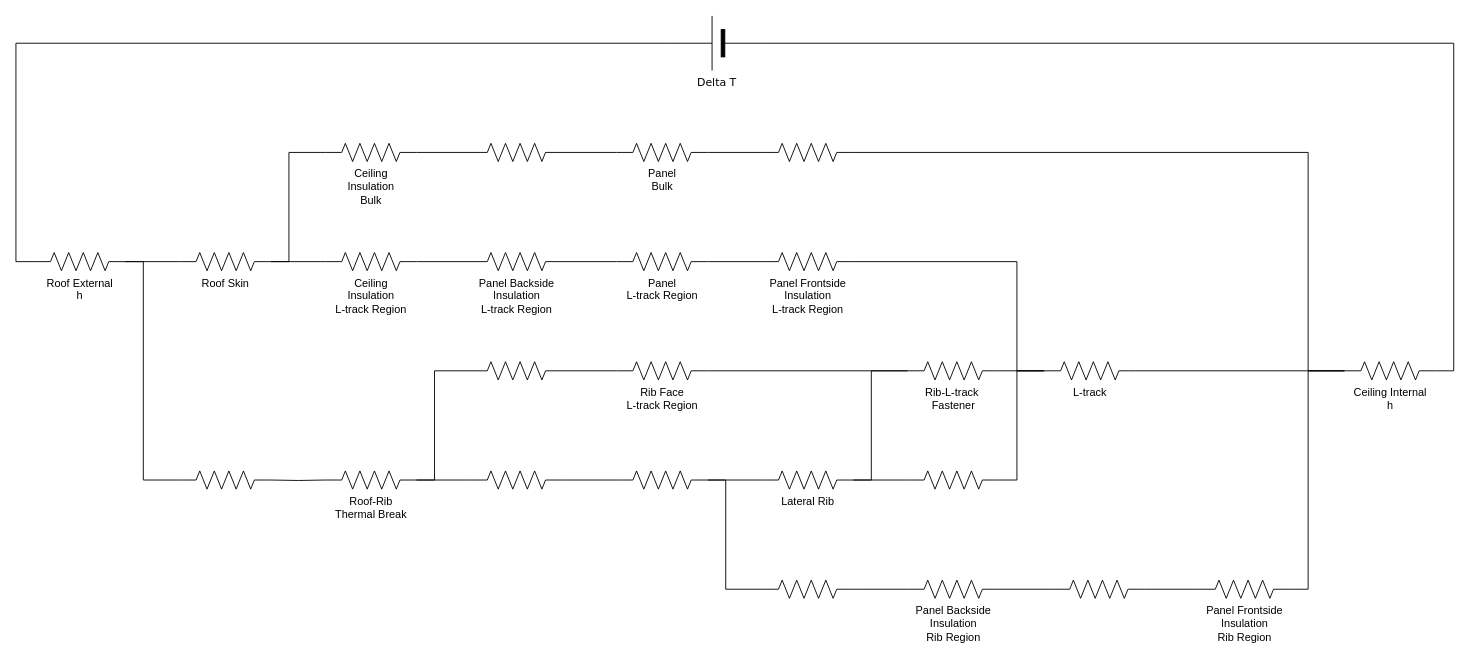
This 1471x660 diagram has some shape labels left out. The shapes that lost their labels are listed below. From the top down, each one's centre as x and y in pixels, then its label:
(516,152): Panel Backside Insulation Bulk
(807,152): Panel Frontside Insulation Bulk
(516,370): Rib Sides L-track Region
(225,479): Roof Skin Rib Region
(516,479): Rib Sides
(662,479): Rib Face
(953,479): Rib-L-track Thermal Break
(807,588): Rib Face Insulation
(1098,588): Panel Rib Region
